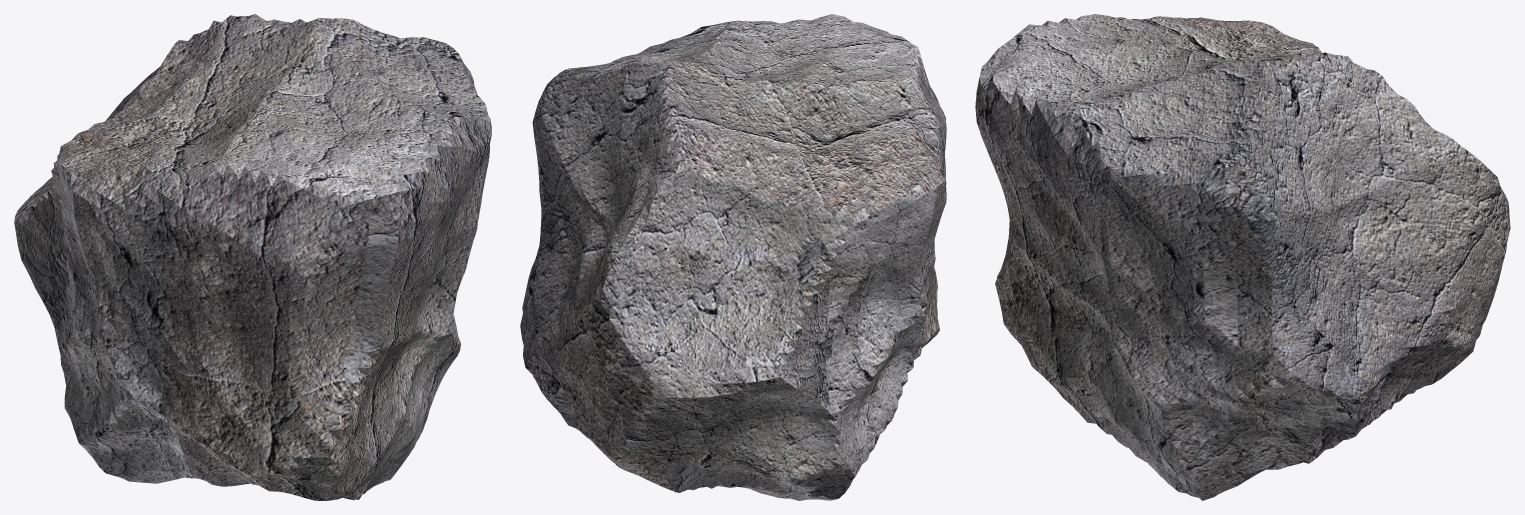
File: ufan.glb
The picture shows the model from 3 angles, left to right: view 1: azimuth 30°, elevation 25°; view 2: azimuth 150°, elevation 25°; view 3: azimuth 270°, elevation 25°; orthographic projection. The views are drawn at different scales.
Parts seen in each view (by area): view 1: Cube.001; view 2: Cube.001; view 3: Cube.001.
Part boxes in pixels (<box>): Cube.001: <box>14,14,491,500</box>; Cube.001: <box>520,14,946,500</box>; Cube.001: <box>975,14,1510,500</box>.
Size of what is drawn, in the model's own units: 1.24 by 1.27 by 1.47.
1 material, 1 textured.
